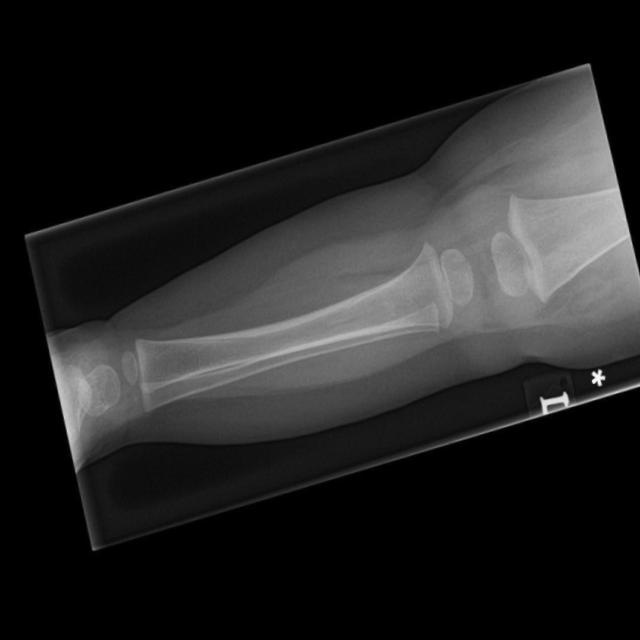fracture: (162, 335, 225, 349)
